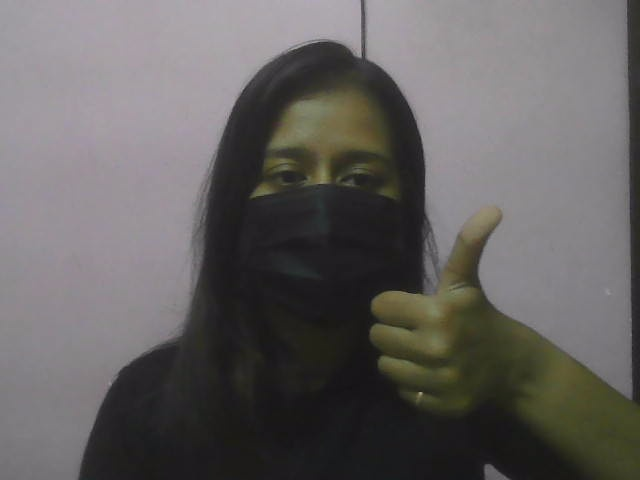Good: (361, 191, 535, 425)
